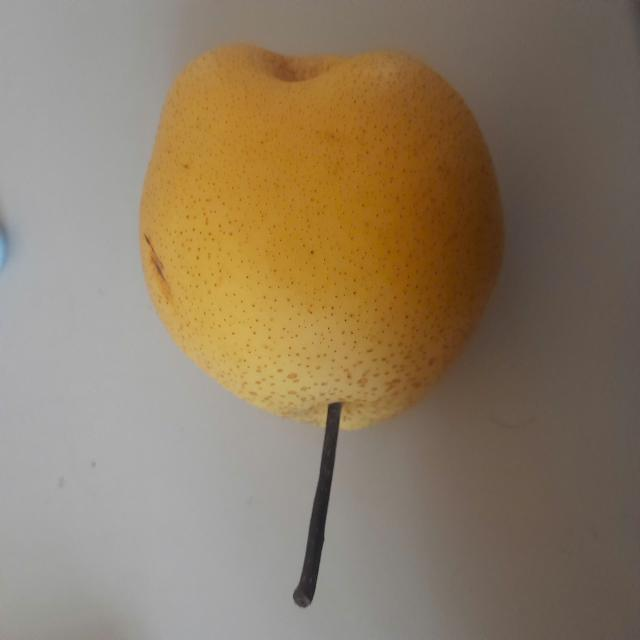Le: (140, 41, 507, 609)
